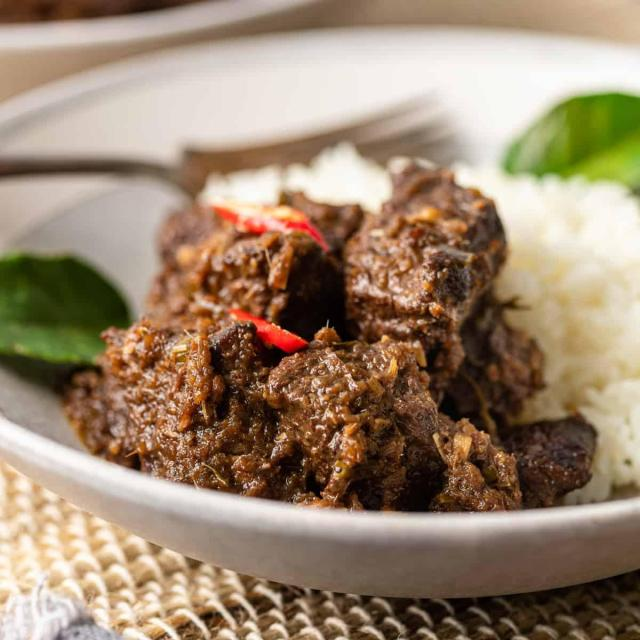Rendang: (49, 152, 595, 533)
